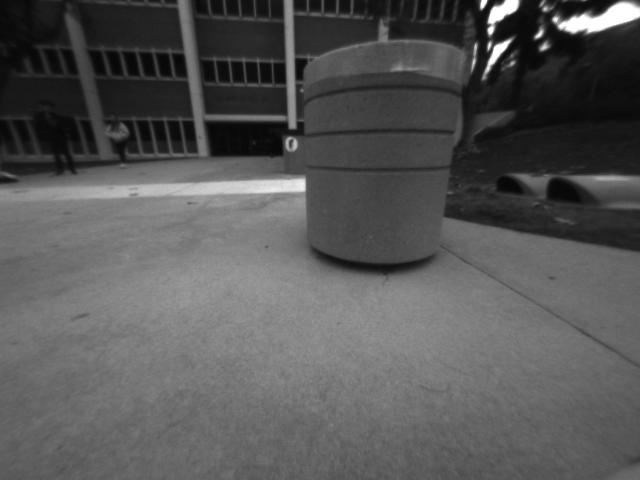trashcan: (300, 39, 473, 288), (282, 126, 307, 176)
